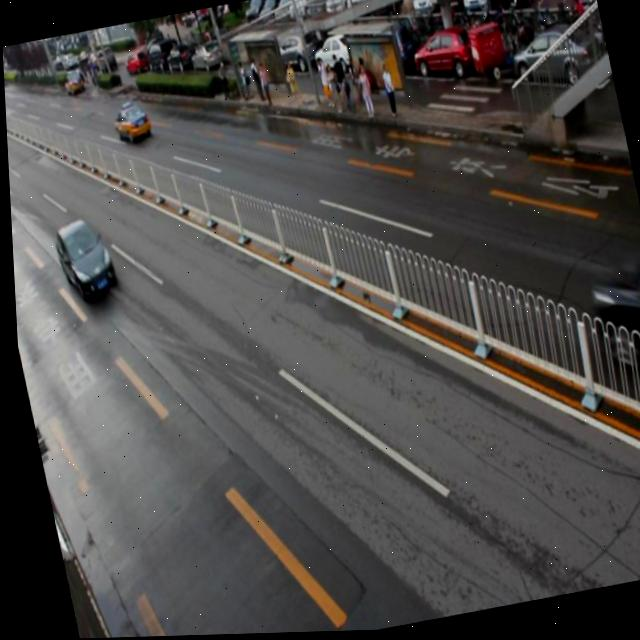car: (50, 217, 116, 302), (110, 101, 153, 149)
